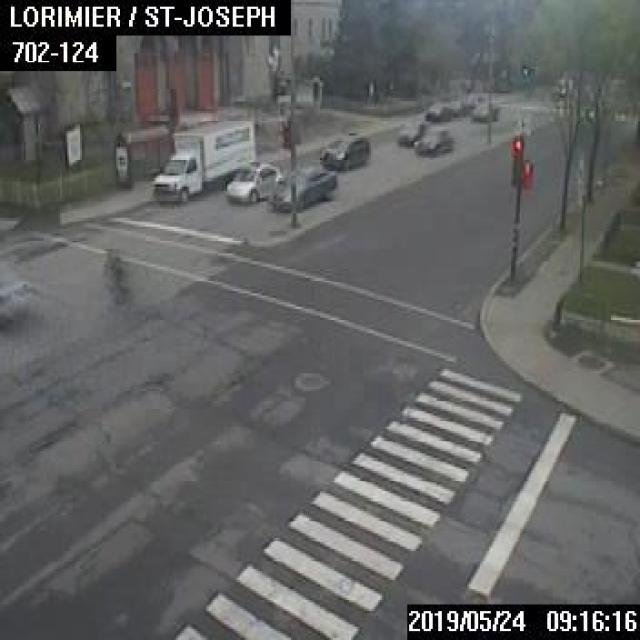vehicle: (150, 115, 253, 201), (268, 166, 336, 209), (224, 160, 279, 201), (318, 131, 368, 169), (414, 126, 452, 156), (396, 120, 421, 144), (471, 101, 498, 121), (424, 101, 450, 120), (463, 93, 482, 109), (449, 98, 464, 114)
